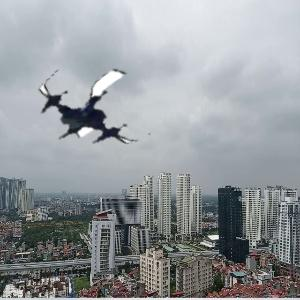drone: (40, 50, 156, 166)
